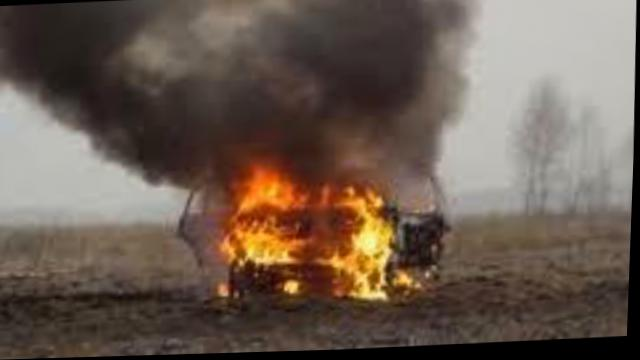fire: (207, 159, 419, 306)
